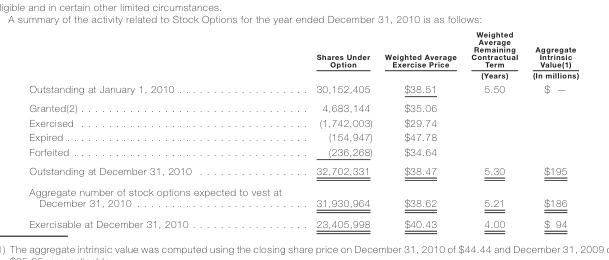table: (28, 29, 578, 228)
table column: (28, 29, 298, 228), (377, 29, 463, 228), (298, 29, 377, 228), (463, 29, 524, 228), (524, 29, 578, 228)
table column header: (28, 29, 578, 81)
table row: (28, 29, 578, 81), (28, 180, 578, 212), (28, 161, 578, 180), (28, 81, 578, 98), (28, 144, 578, 161), (28, 98, 578, 114), (28, 212, 578, 228), (28, 114, 578, 129), (28, 129, 578, 144)
